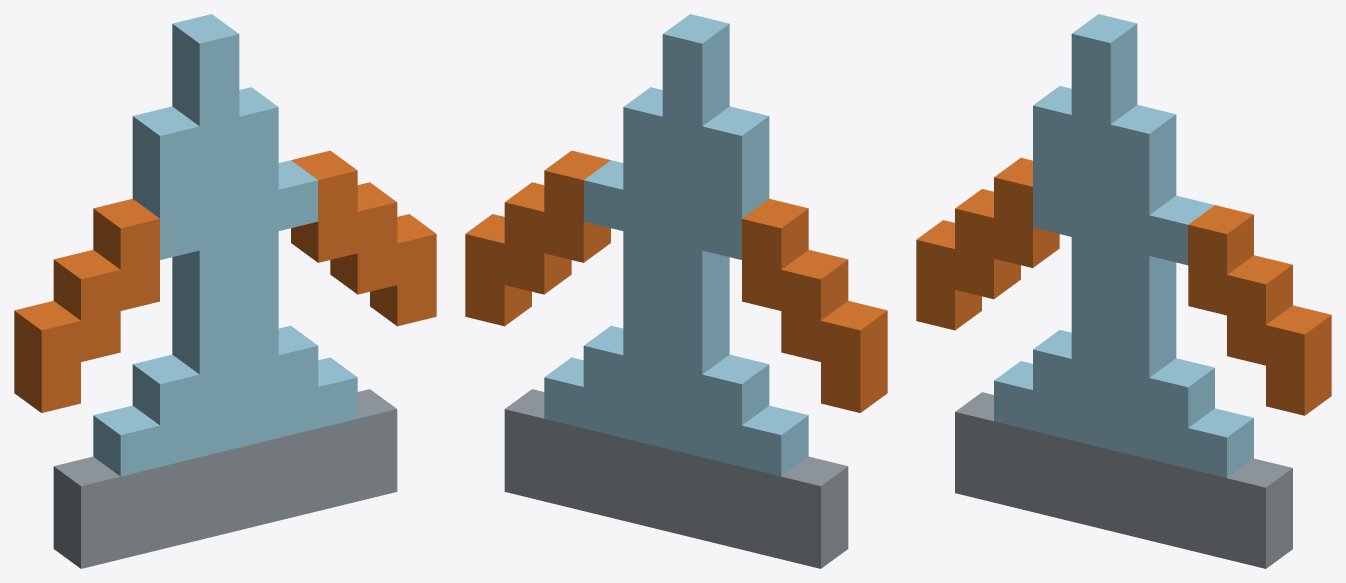
The model's file is magnet_bell_tower.glb.
3 views of the same model, side by side, from view 1: azimuth 30°, elevation 25°; view 2: azimuth 150°, elevation 25°; view 3: azimuth 330°, elevation 25° (orthographic).
Visible parts, largest first — view 1: Magnet_bell_tower; view 2: Magnet_bell_tower; view 3: Magnet_bell_tower.
Boxes of the visible parts, box(x1,y1,x2,y2) form: Magnet_bell_tower: box(14, 14, 436, 568); Magnet_bell_tower: box(465, 14, 887, 568); Magnet_bell_tower: box(916, 14, 1331, 568).
Size of the model in its own units: 0.05 by 0.06 by 0.006.
1 material, 1 textured.
